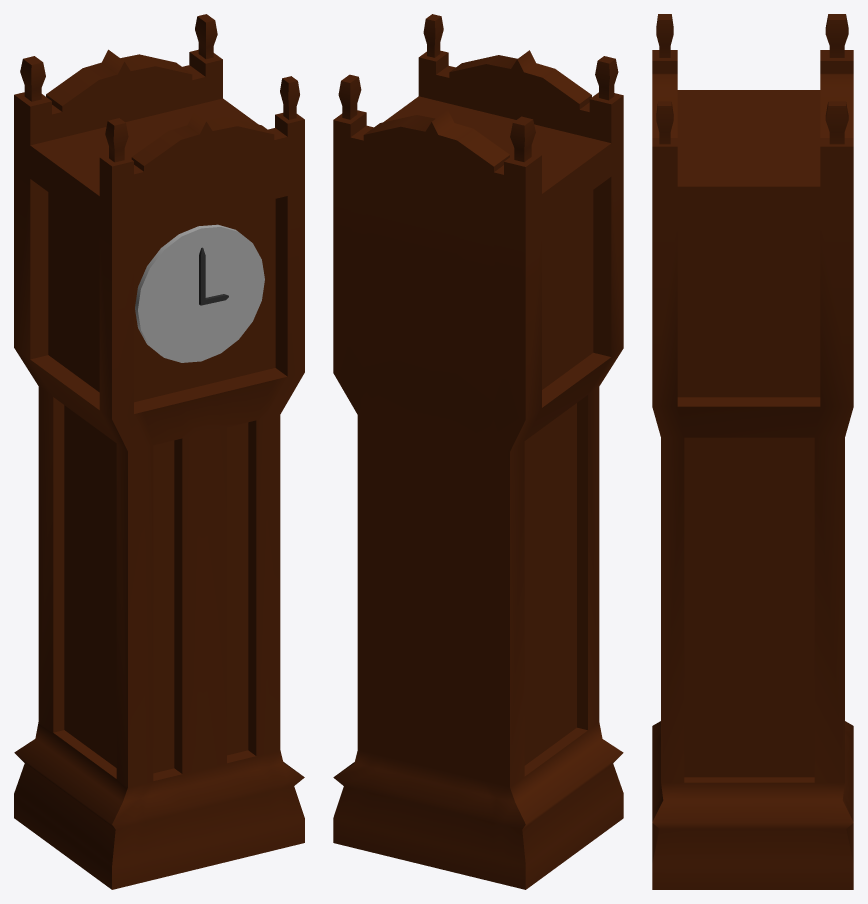
File: clock.fbx
3 renders of one model, left to right at view 1: azimuth 30°, elevation 25°; view 2: azimuth 150°, elevation 25°; view 3: azimuth 270°, elevation 25°, orthographic. The views are drawn at different scales.
Parts seen in each view (by area): view 1: pCube1, clockface; view 2: pCube1; view 3: pCube1.
Boxes of the visible parts, x1,y1,x2,y2 form: pCube1: (14, 14, 304, 889); clockface: (135, 224, 264, 362); pCube1: (333, 14, 623, 889); pCube1: (652, 14, 853, 889).
Bounding box in the file's own units: 1.13 × 4.26 × 0.9948.
